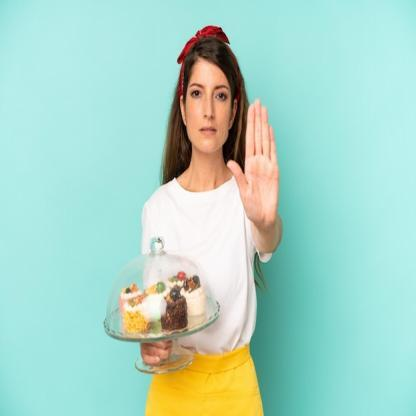stop: (225, 94, 282, 230)
